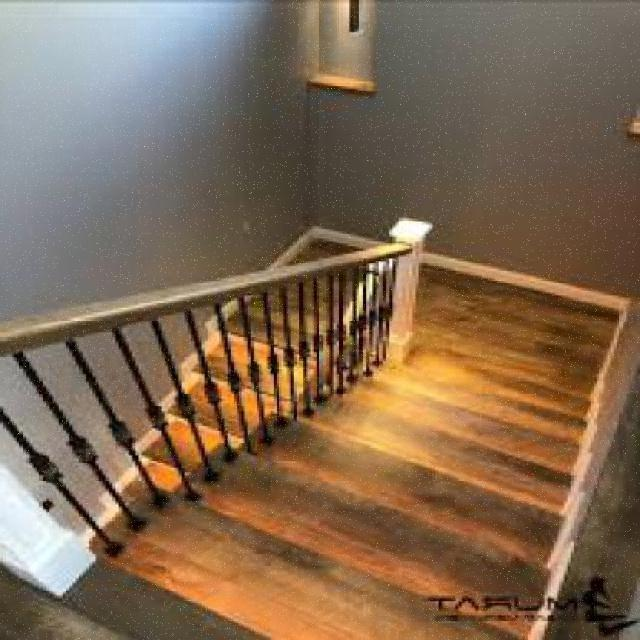stair: (70, 227, 636, 636)
